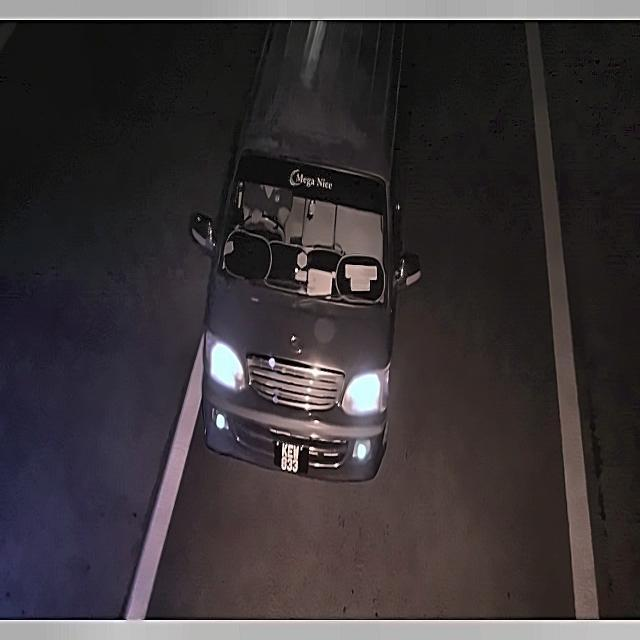car: (269, 437, 309, 479)
